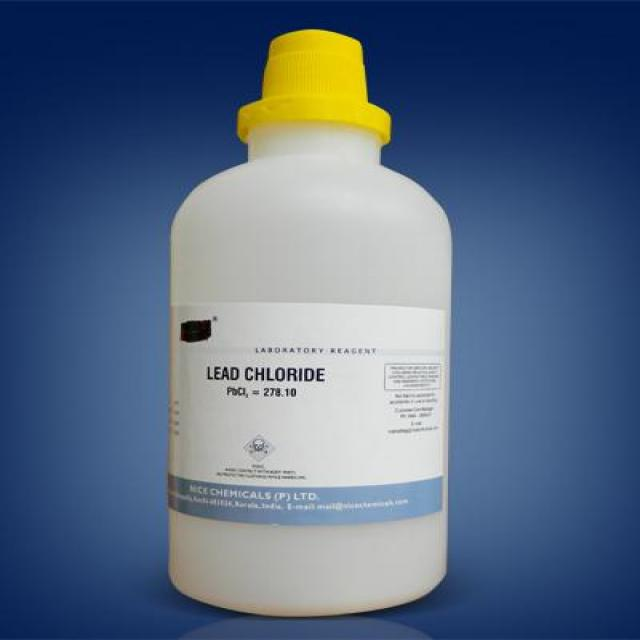plastic_bottle: (165, 19, 467, 618)
